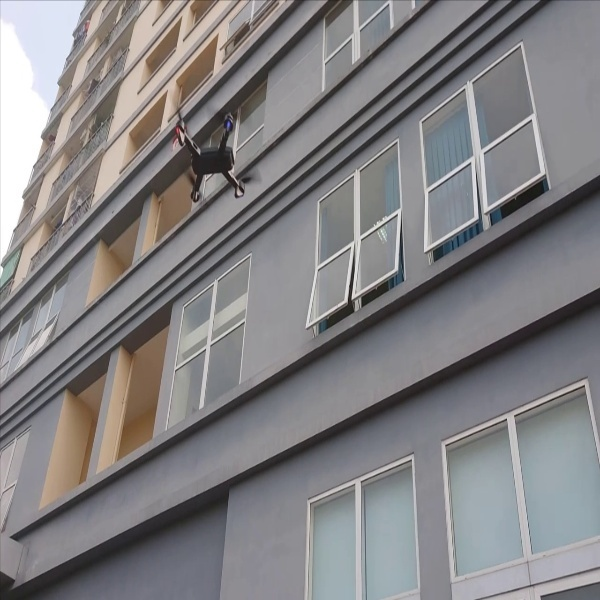drone: (163, 94, 268, 206)
